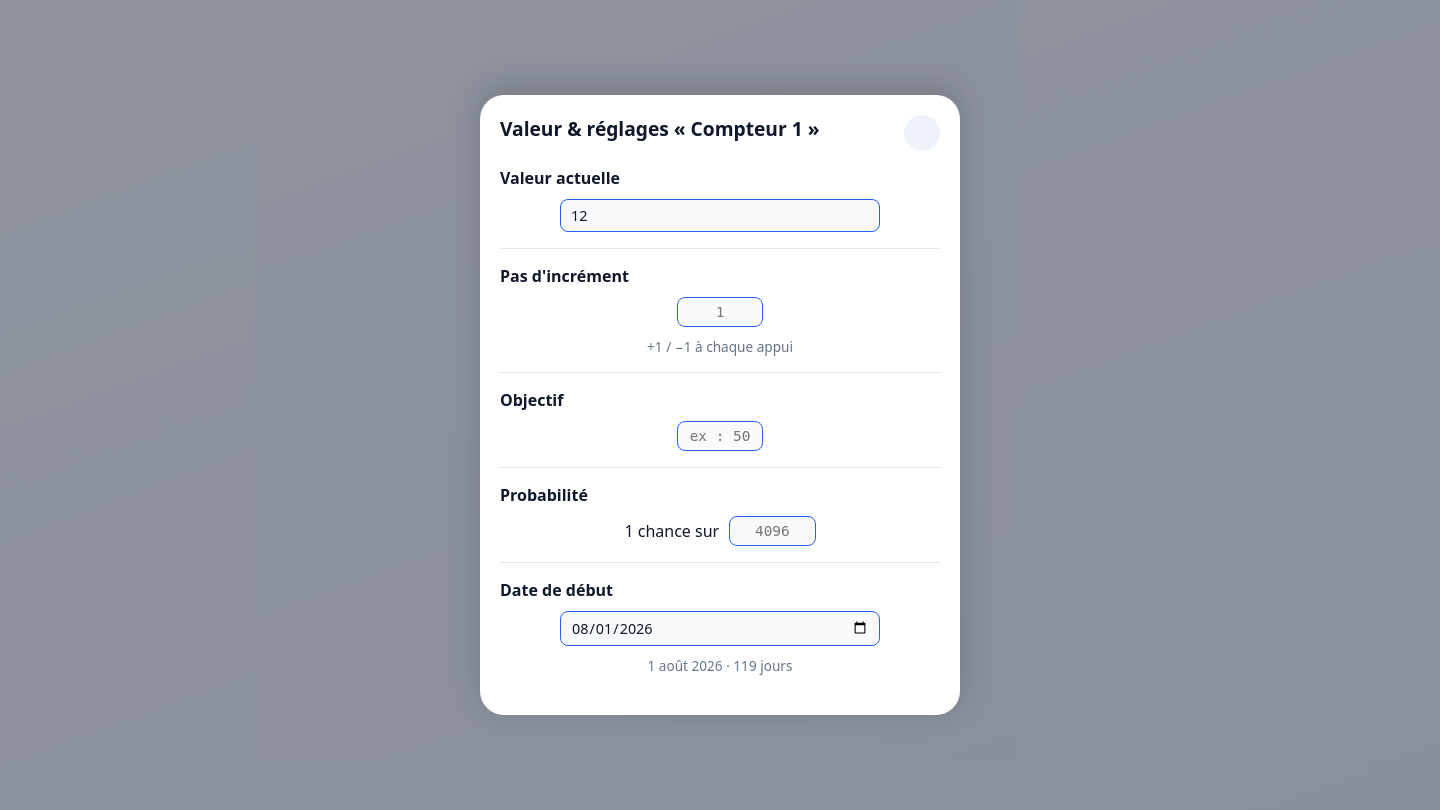
Test case: CounterBehaviorSettingsPanel › valeur actuelle › affiche une erreur et ne commite pas si la saisie est invalide
Clear the field showing "12" at (720, 216), box top-left (560, 199), bottom-right (880, 232)
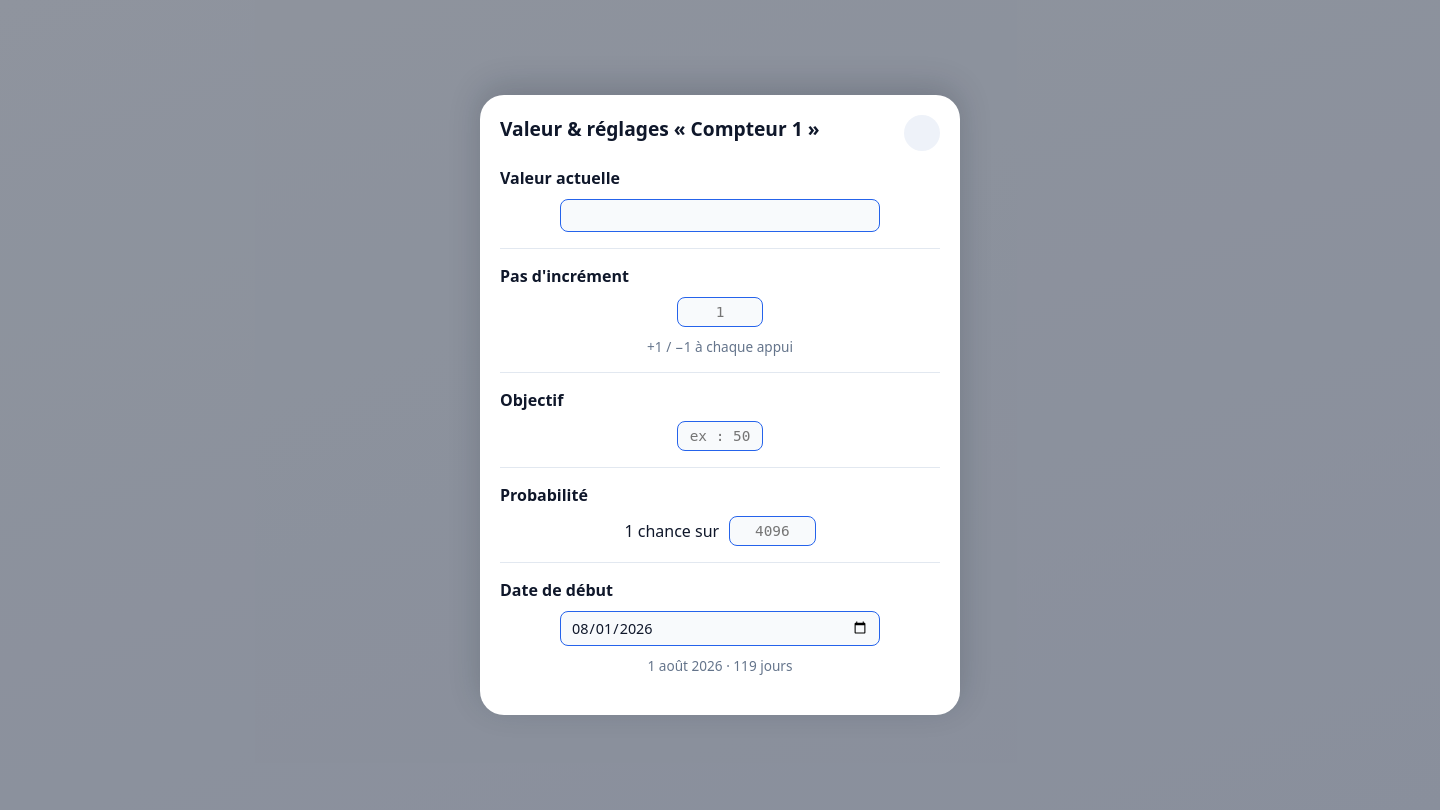
Press Enter in the field showing "12", box top-left (560, 199), bottom-right (880, 232)
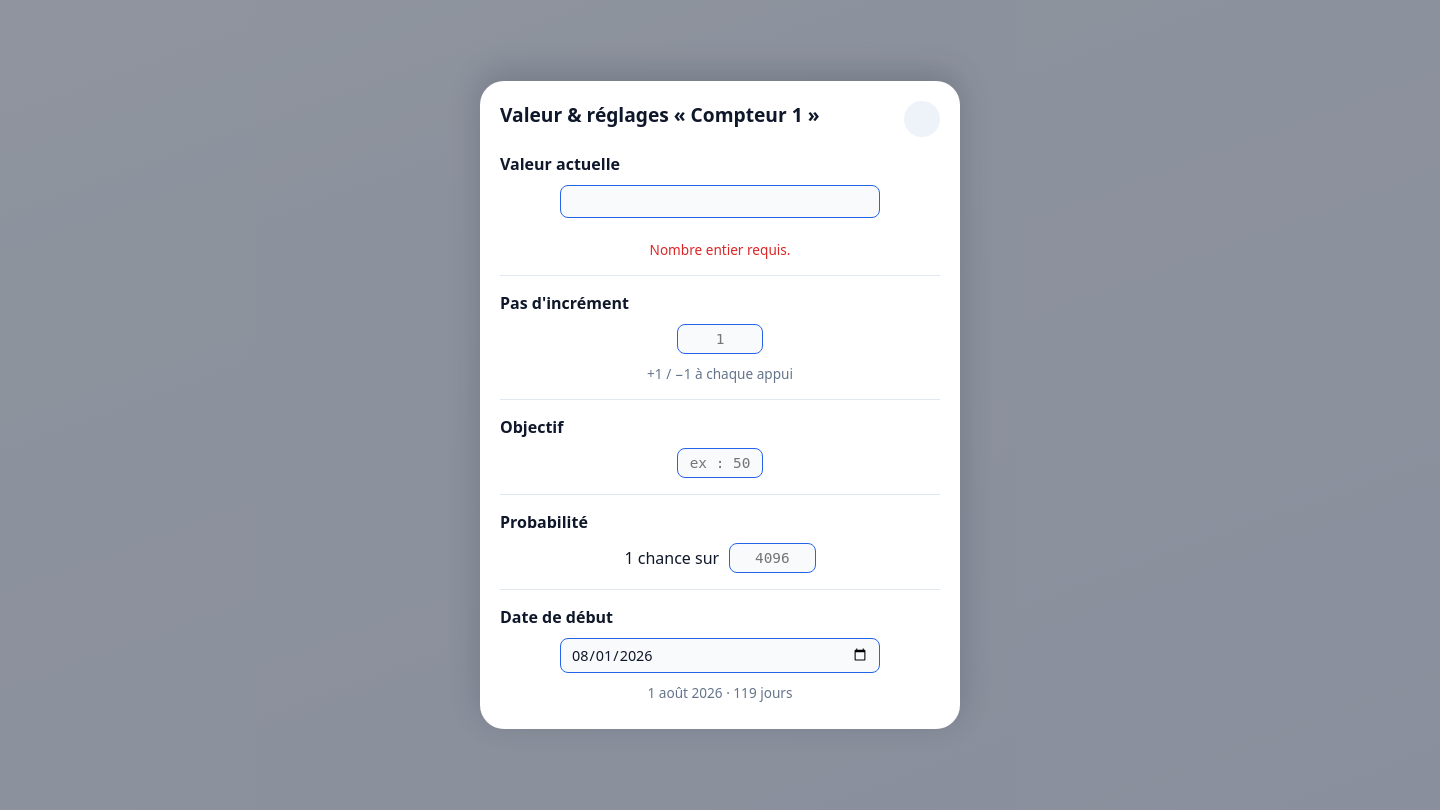
Expected: the text "Nombre entier requis." is shown, top-left (650, 240), bottom-right (790, 259)
